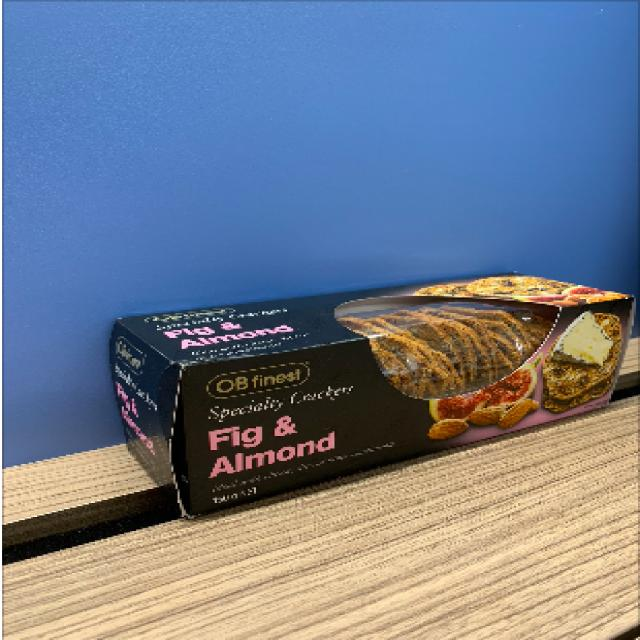object_name: (121, 316, 613, 425)
